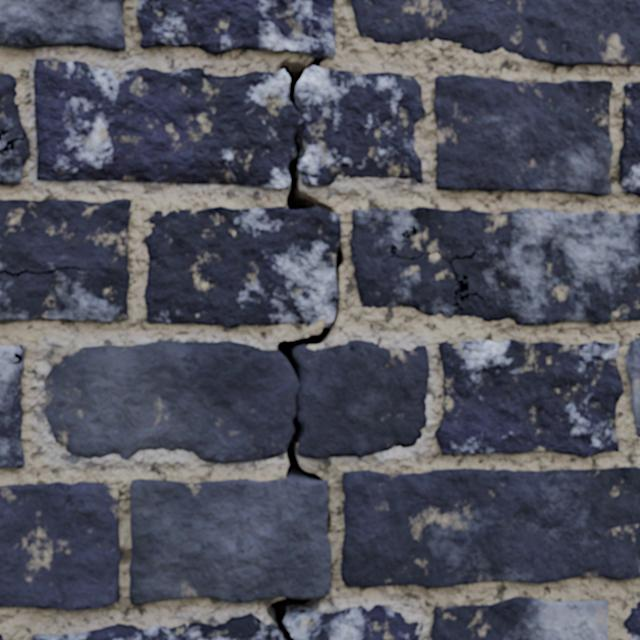broken_brick: (34, 59, 424, 188), (45, 340, 429, 463), (31, 613, 281, 639), (283, 605, 419, 639)
crack: (144, 124, 343, 381), (129, 409, 331, 639), (341, 467, 639, 587), (350, 207, 639, 325), (135, 0, 335, 118), (435, 339, 623, 457), (433, 74, 613, 196), (351, 0, 639, 66), (0, 199, 131, 322), (0, 482, 121, 610), (432, 597, 608, 639), (0, 0, 125, 51), (0, 74, 30, 185), (0, 345, 24, 468), (619, 82, 639, 196), (625, 338, 639, 436), (624, 601, 639, 639), (160, 181, 179, 183), (215, 183, 231, 184), (115, 180, 129, 181)
